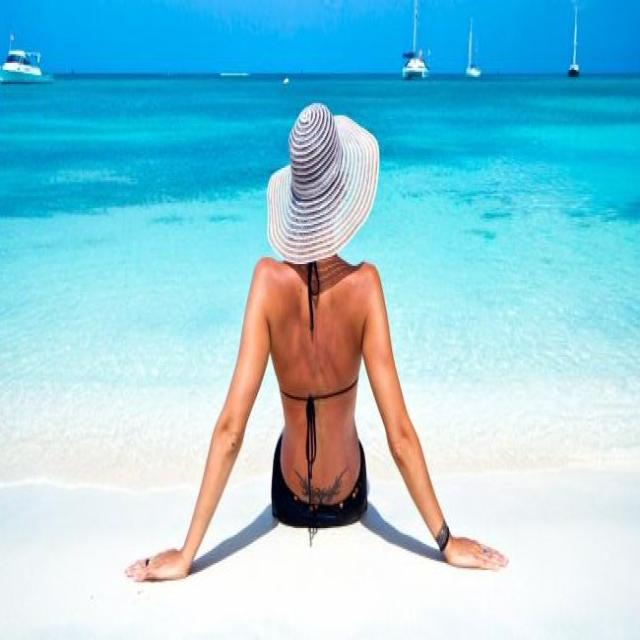hat: (268, 105, 378, 262)
